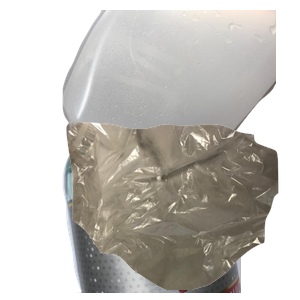glass: (60, 120, 300, 300)
metal: (105, 63, 300, 192)
plastic: (60, 10, 300, 190)
trash: (64, 120, 300, 300)
